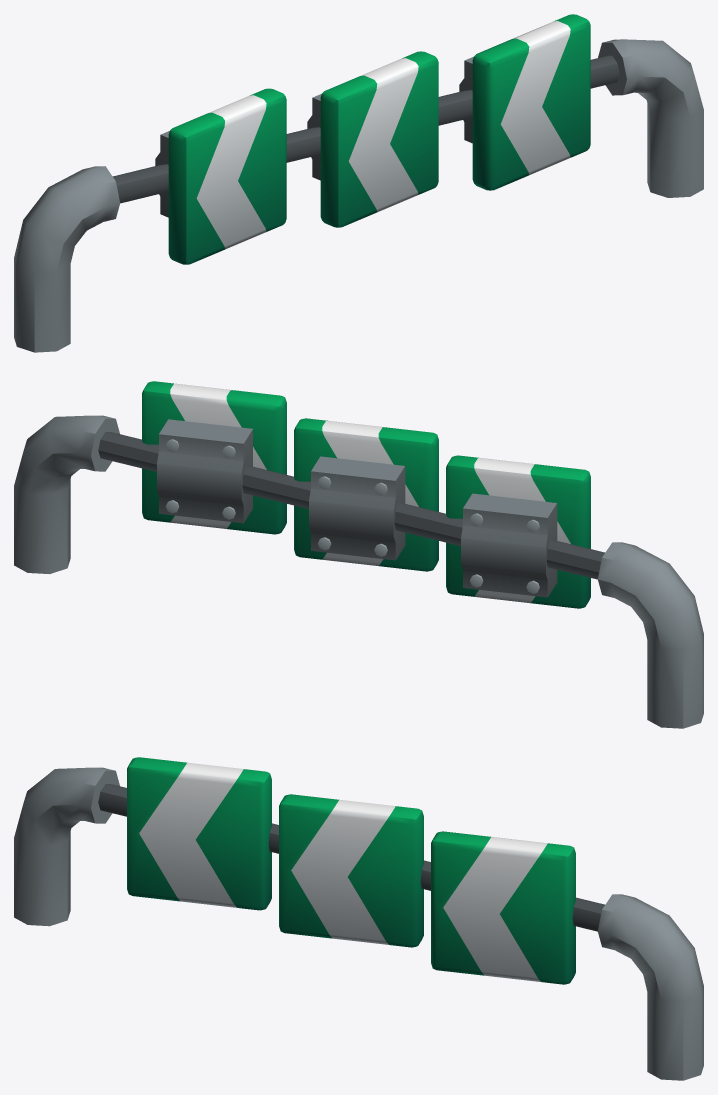
File: signage_arrows_left_green.glb
3 views of the same model, one above another, from view 1: azimuth 30°, elevation 25°; view 2: azimuth 150°, elevation 25°; view 3: azimuth 330°, elevation 25° (orthographic).
Visible parts, largest first — view 1: signage_arrows_left_green; view 2: signage_arrows_left_green; view 3: signage_arrows_left_green.
Part boxes in pixels (box(x1,y1,x2,y2)): signage_arrows_left_green: box(14, 14, 703, 352); signage_arrows_left_green: box(14, 381, 703, 728); signage_arrows_left_green: box(14, 757, 703, 1080).
Size of the model in its own units: 5.4 by 1.5 by 0.6771.
1 material, 1 textured.
